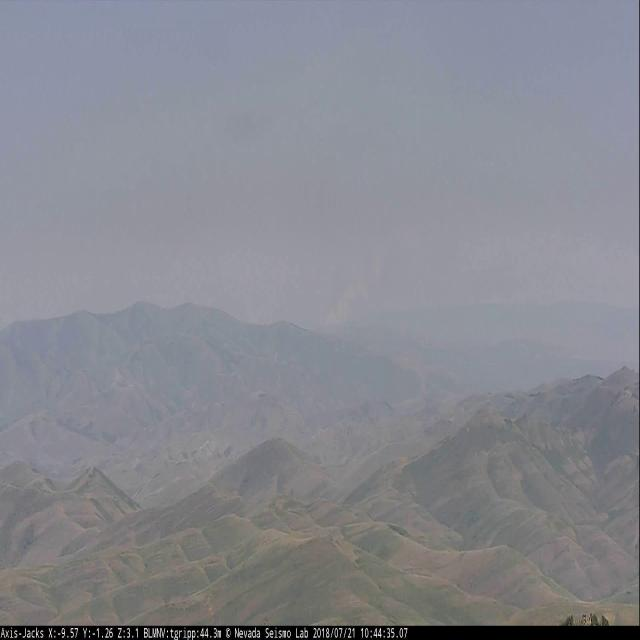smoke: (304, 246, 386, 341)
